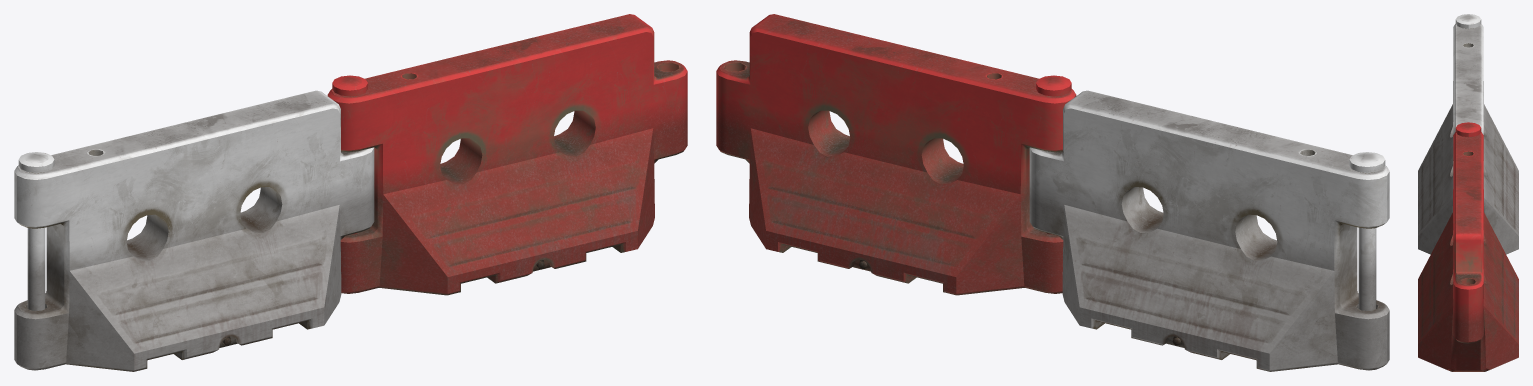
The model's file is barrier.glb.
3 views of the same model, side by side, from view 1: azimuth 30°, elevation 25°; view 2: azimuth 150°, elevation 25°; view 3: azimuth 270°, elevation 25° (orthographic). The views are drawn at different scales.
Visible parts, largest first — view 1: barrier_LP.001_Plane.002, barrier_LP.001_Plane.007, barrier_LP.001_Plane.003, barrier_LP.001_Plane.001; view 2: barrier_LP.001_Plane.002, barrier_LP.001_Plane.007, barrier_LP.001_Plane.003, barrier_LP.001_Plane.001; view 3: barrier_LP.001_Plane.007, barrier_LP.001_Plane.002, barrier_LP.001_Plane.001, barrier_LP.001_Plane.003.
Boxes of the visible parts, <box> form: barrier_LP.001_Plane.002: <box>14,90,374,371</box>; barrier_LP.001_Plane.007: <box>327,14,687,295</box>; barrier_LP.001_Plane.003: <box>18,152,54,310</box>; barrier_LP.001_Plane.001: <box>332,75,367,234</box>; barrier_LP.001_Plane.002: <box>1029,90,1389,371</box>; barrier_LP.001_Plane.007: <box>716,14,1076,295</box>; barrier_LP.001_Plane.003: <box>1349,152,1385,310</box>; barrier_LP.001_Plane.001: <box>1036,75,1071,234</box>; barrier_LP.001_Plane.007: <box>1418,132,1518,371</box>; barrier_LP.001_Plane.002: <box>1418,23,1518,254</box>; barrier_LP.001_Plane.001: <box>1455,122,1481,137</box>; barrier_LP.001_Plane.003: <box>1455,14,1481,28</box>.
Size of the model in its own units: 2.91 by 0.8605 by 0.5371.
Materials: 2 (2 with a texture image).
